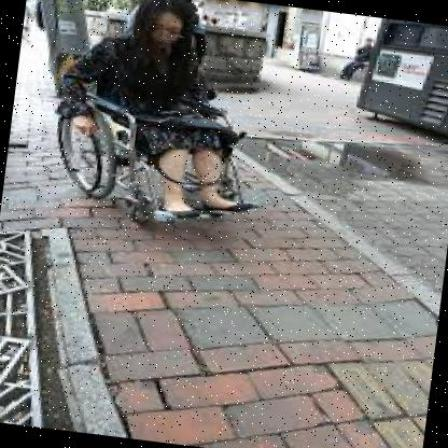wheel: (42, 0, 284, 239)
